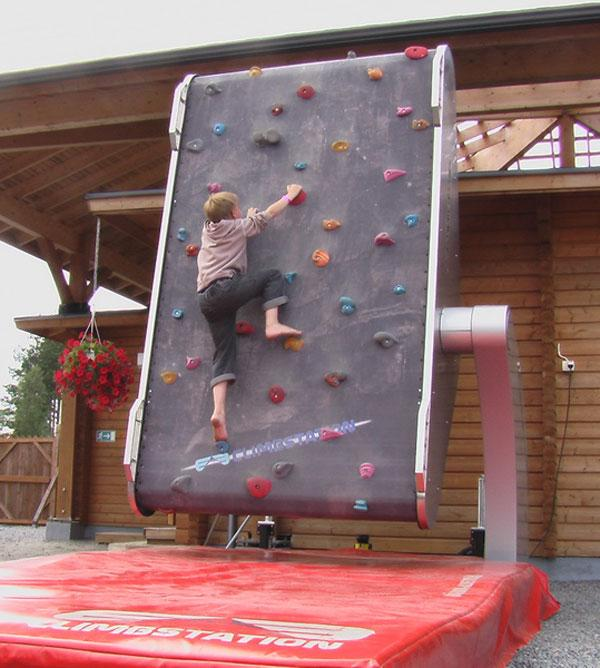person: (195, 183, 304, 445)
